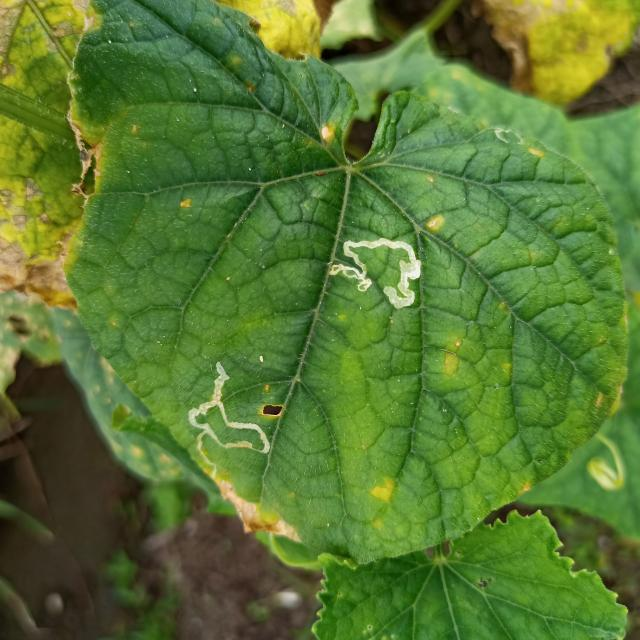disease_cucumber: (366, 476, 395, 539), (592, 376, 632, 411), (442, 334, 463, 376), (426, 213, 445, 234), (322, 121, 336, 147), (177, 196, 194, 213), (528, 145, 541, 160)
